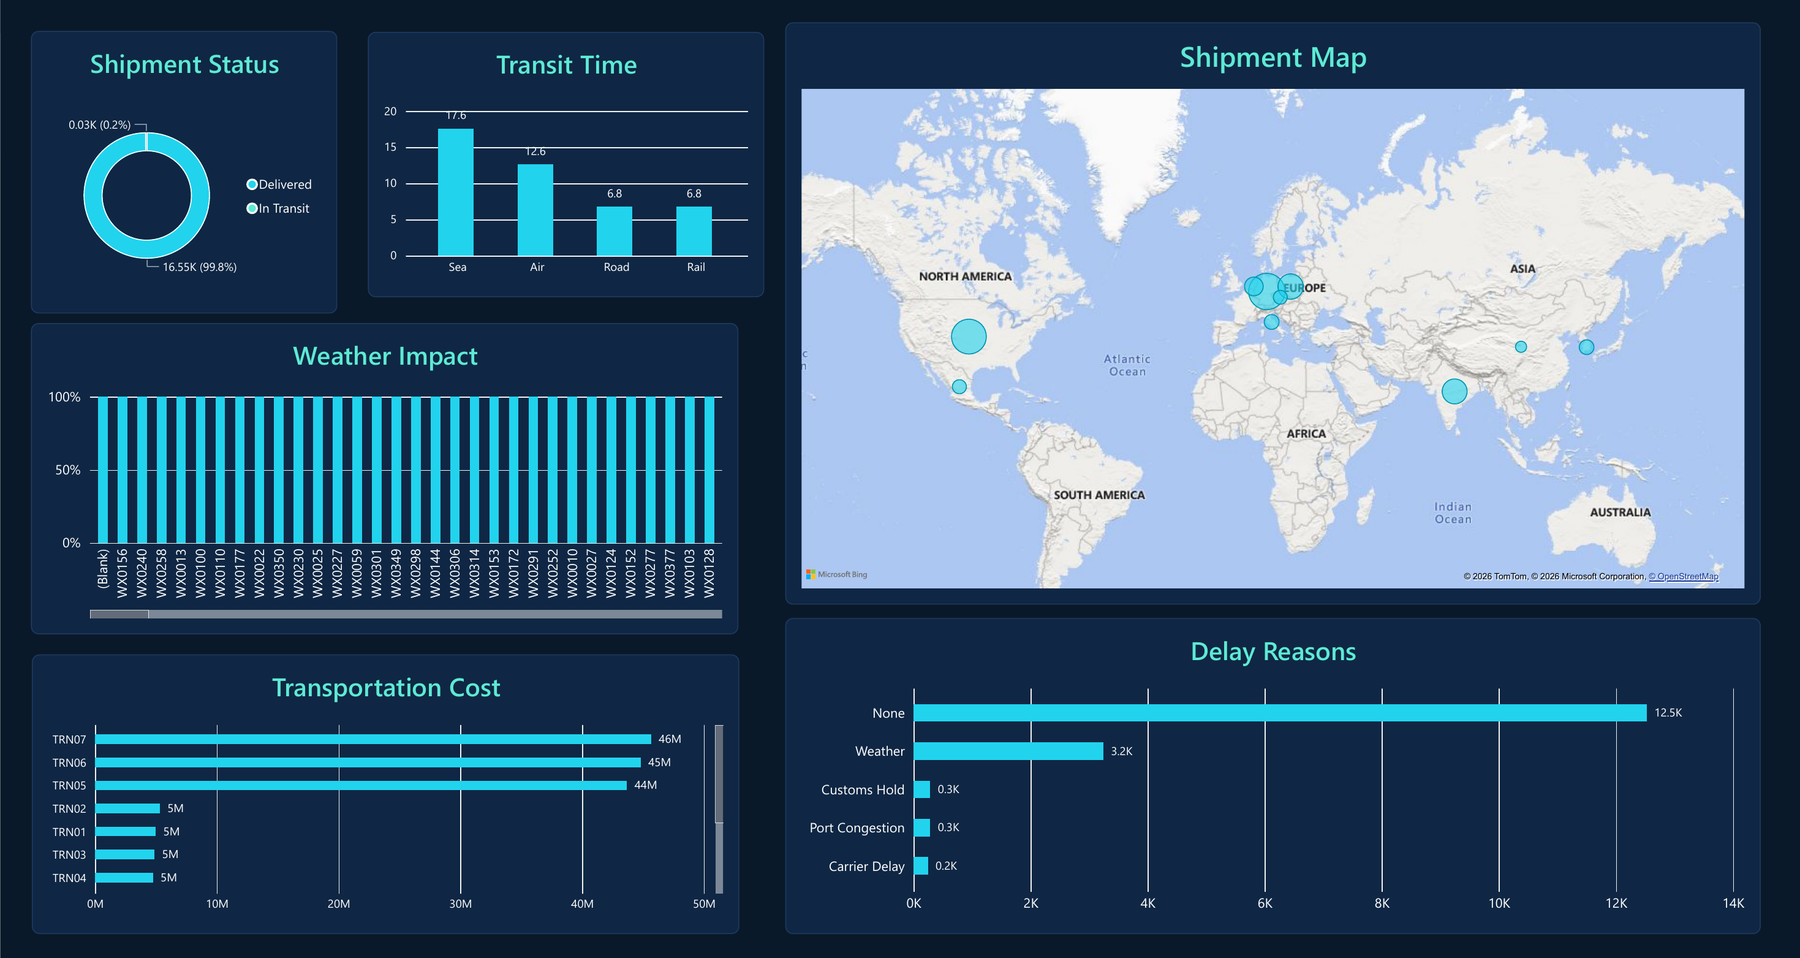

This screenshot's page, from the dashboard's own definition file:
{"tool":"powerbi","page":{"name":" Logistics","canvas":[1880,1000],"ordinal":3},"visuals":[{"type":"donutChart","title":"Shipment Status","fields":{"Category":["fact_shipments.Status"],"Y":["CountNonNull(fact_shipments.ShipmentID)"]},"box":[32.3,32.3,319.6,294.5],"z":0},{"type":"clusteredColumnChart","title":"Transit Time","fields":{"Category":["dim_transportation.Mode"],"Y":["dim_calendar.Average Transit Time"]},"box":[383.9,32.9,414.3,277.4],"z":1000},{"type":"map","title":"Shipment Map","fields":{"Category":["dim_countries.CountryName"],"Size":["CountNonNull(fact_shipments.ShipmentID)"]},"box":[819.6,22.8,1019.8,608.1],"z":2000},{"type":"clusteredBarChart","title":"Transportation Cost","fields":{"Category":["dim_transportation.TransportationID"],"Y":["dim_calendar.Total Transportation Cost"]},"box":[32.9,682.8,738.6,292.6],"z":3000},{"type":"hundredPercentStackedColumnChart","title":"Weather Impact","fields":{"Category":["dim_weather.WeatherID"],"Y":["CountNonNull(fact_shipments.ShipmentID)"]},"box":[32.4,336.7,738.2,325.4],"z":4000},{"type":"clusteredBarChart","title":"Delay Reasons","fields":{"Category":["fact_shipments.DelayReason"],"Y":["CountNonNull(fact_shipments.ShipmentID)"]},"box":[819.6,644.8,1019.8,330.6],"z":5000}]}

Visuals, with their boxes in screenshot pixels (x1, y1, x2, y2), scaled from the page's 1880x1000 canvas onto the 1800x958 screenshot:
"Shipment Status" donutChart: (x1=31, y1=31, x2=337, y2=313)
"Transit Time" clusteredColumnChart: (x1=368, y1=32, x2=764, y2=297)
"Shipment Map" map: (x1=785, y1=22, x2=1761, y2=604)
"Transportation Cost" clusteredBarChart: (x1=32, y1=654, x2=739, y2=934)
"Weather Impact" hundredPercentStackedColumnChart: (x1=31, y1=323, x2=738, y2=634)
"Delay Reasons" clusteredBarChart: (x1=785, y1=618, x2=1761, y2=934)
